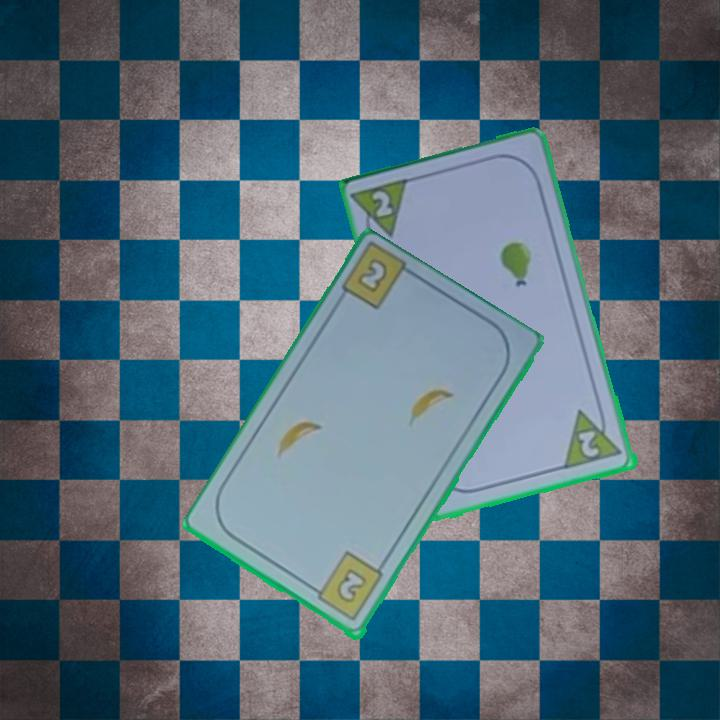2b: (307, 549, 386, 625), (353, 255, 391, 297)
2p: (350, 174, 414, 247), (575, 427, 603, 461)
